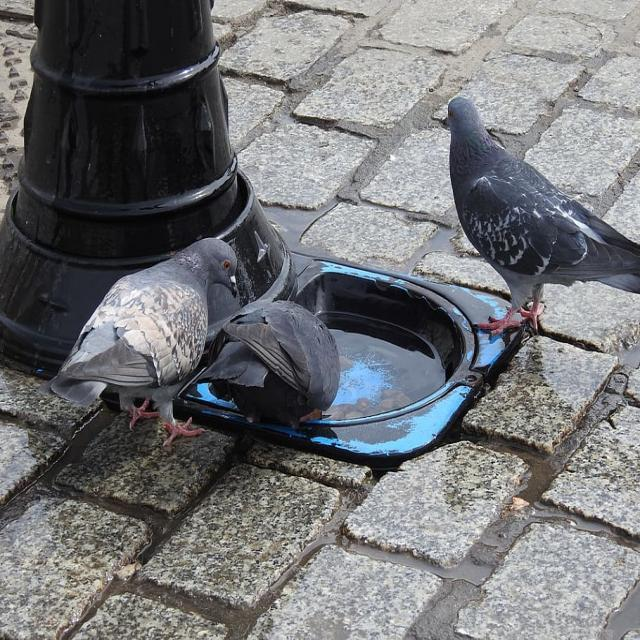bird: (12, 185, 285, 567), (400, 61, 640, 392), (186, 262, 337, 522)
